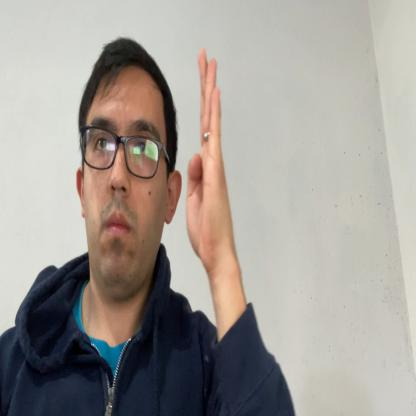B: (185, 47, 230, 266)
